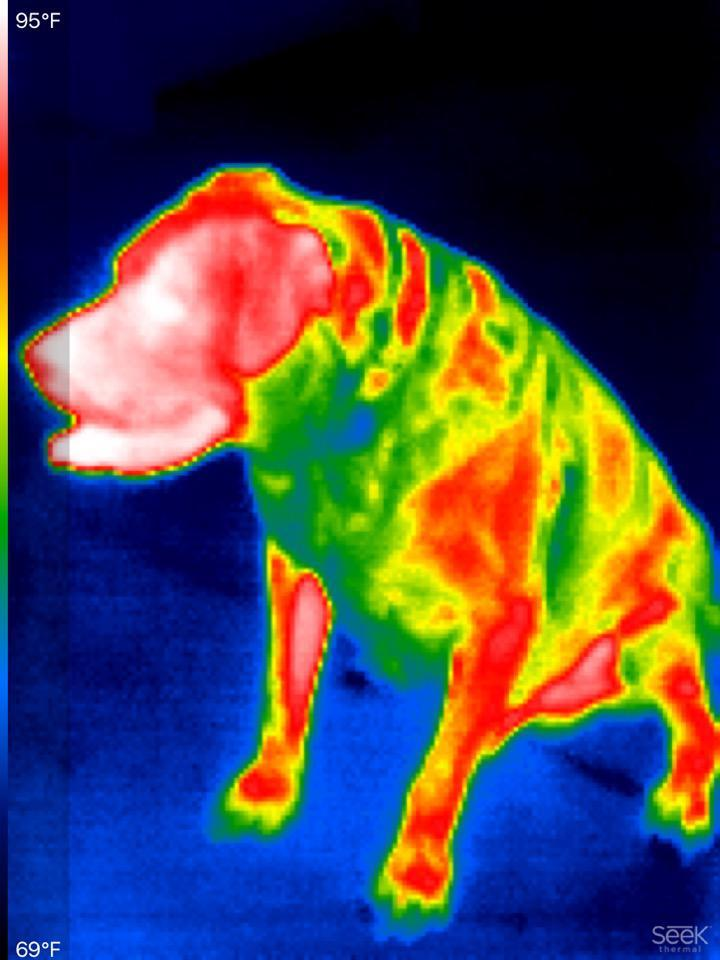dog: (21, 156, 716, 917)
